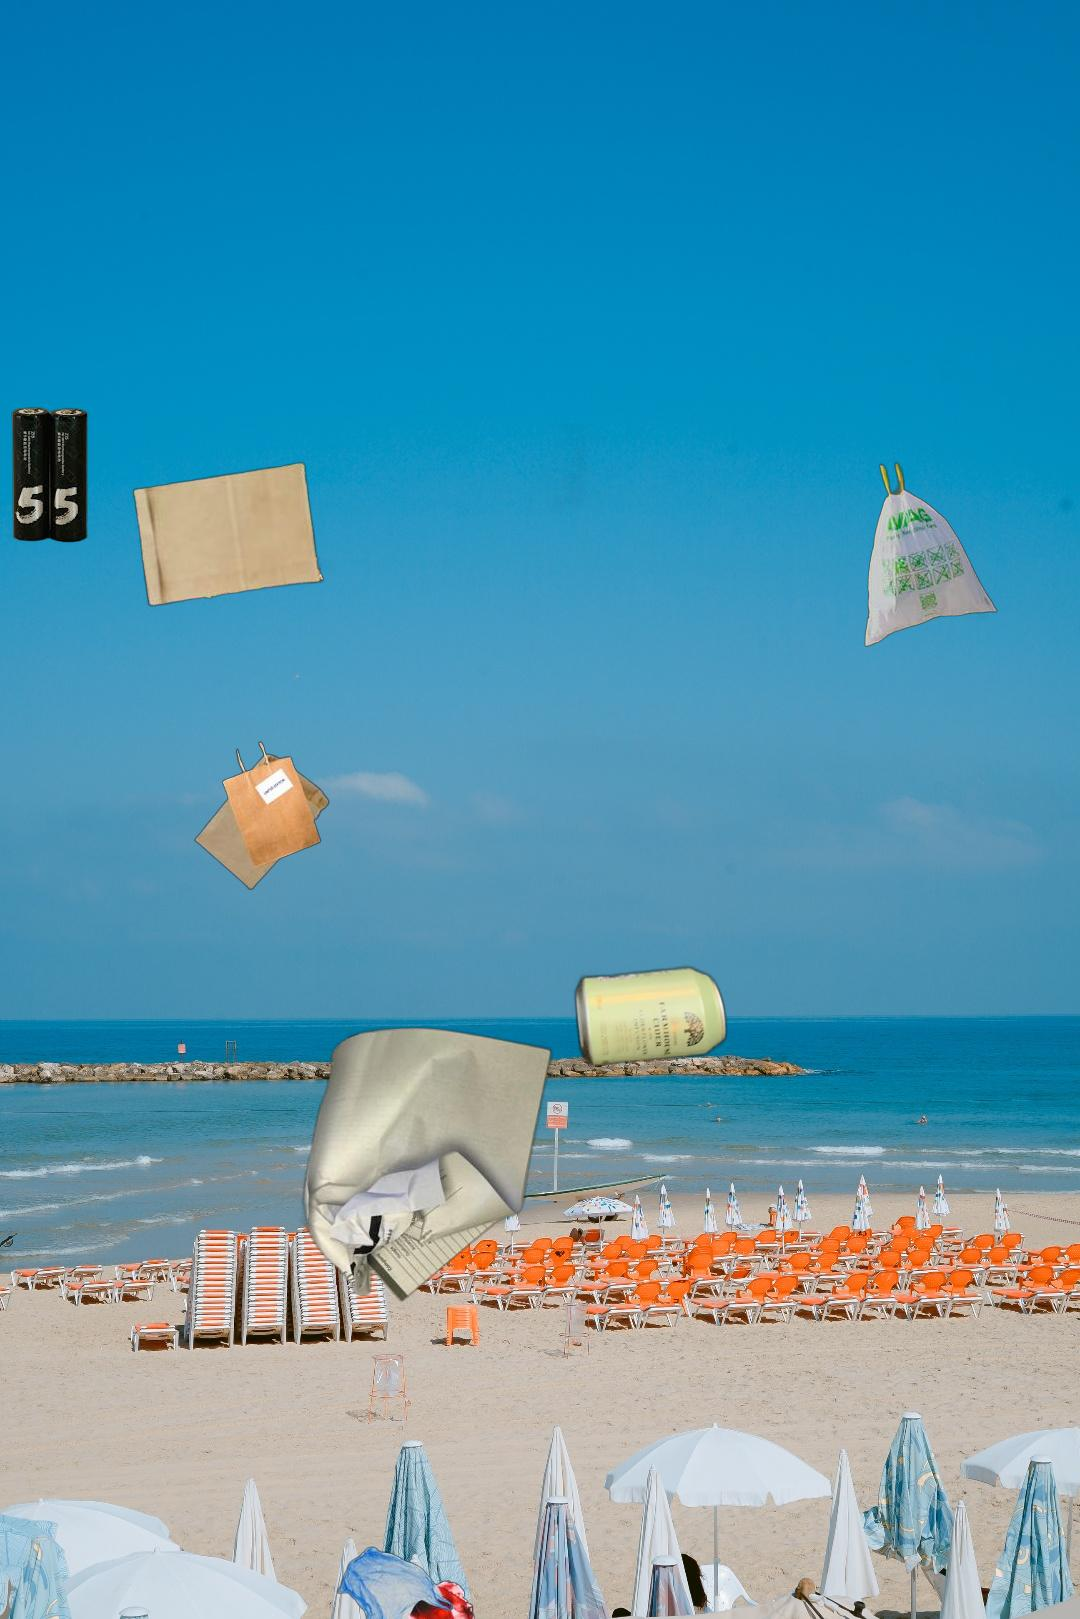battery: (10, 405, 90, 545)
metal-cans: (303, 423, 792, 1072)
paper: (294, 1017, 557, 1306)
paper-bag: (130, 461, 336, 609), (192, 739, 331, 893)
plastic-bag: (864, 459, 998, 649), (313, 1544, 480, 1619)
